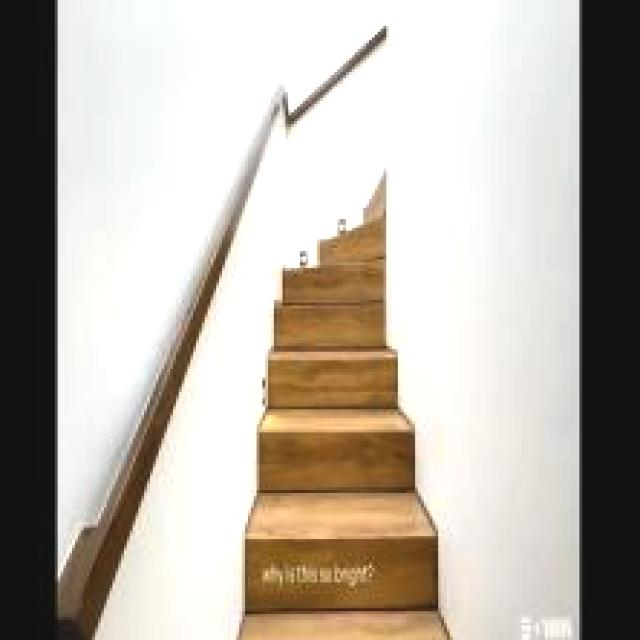upstair: (269, 266, 385, 640)
